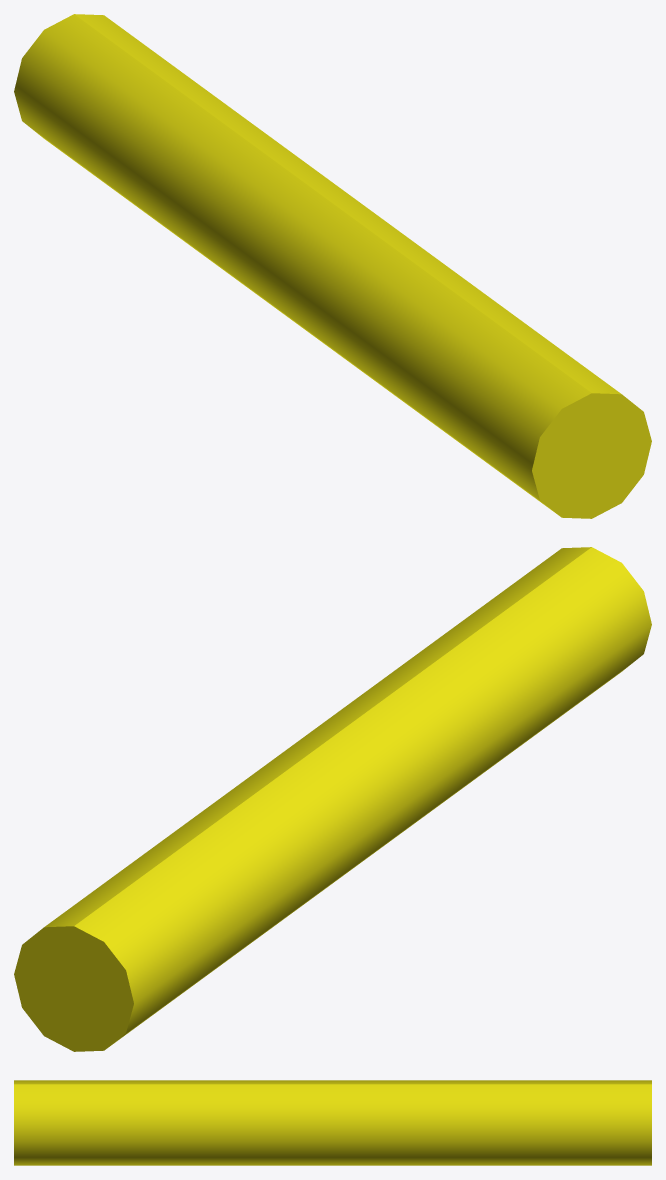
Rendered from PipeSM3.fbx.
3 views of the same model, one above another, from view 1: azimuth 30°, elevation 25°; view 2: azimuth 150°, elevation 25°; view 3: azimuth 270°, elevation 25° (orthographic). The views are drawn at different scales.
Parts seen in each view (by area): view 1: PipeSM3; view 2: PipeSM3; view 3: PipeSM3.
Part boxes in pixels (<box>): PipeSM3: <box>14,14,651,518</box>; PipeSM3: <box>14,547,651,1051</box>; PipeSM3: <box>14,1080,651,1165</box>.
Bounding box in the file's own units: 13.39 × 13.39 × 100.
